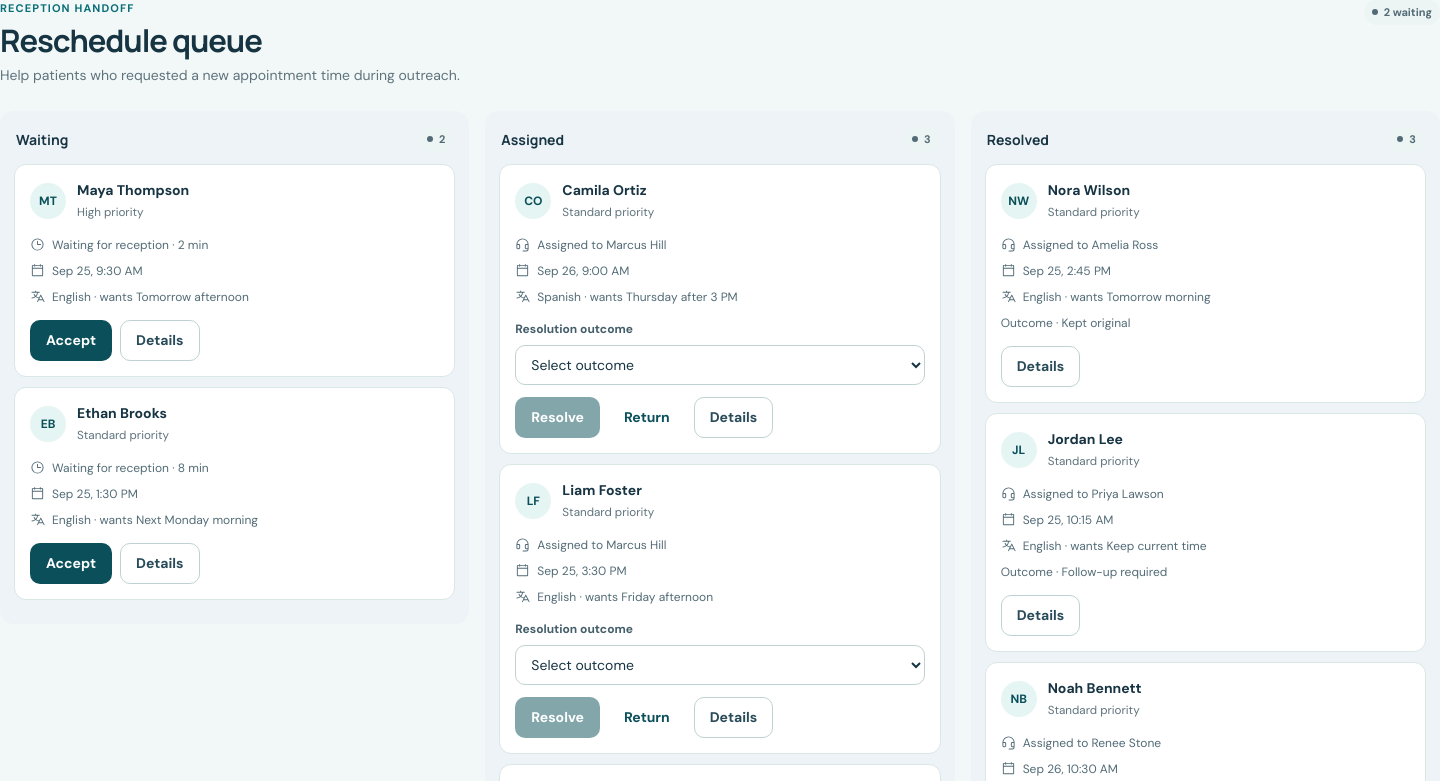
ReschedulePage › returns an assigned request to the waiting queue
Click the button with aria-label "Accept Ethan Brooks" at (71, 563), box [30,543,112,584]
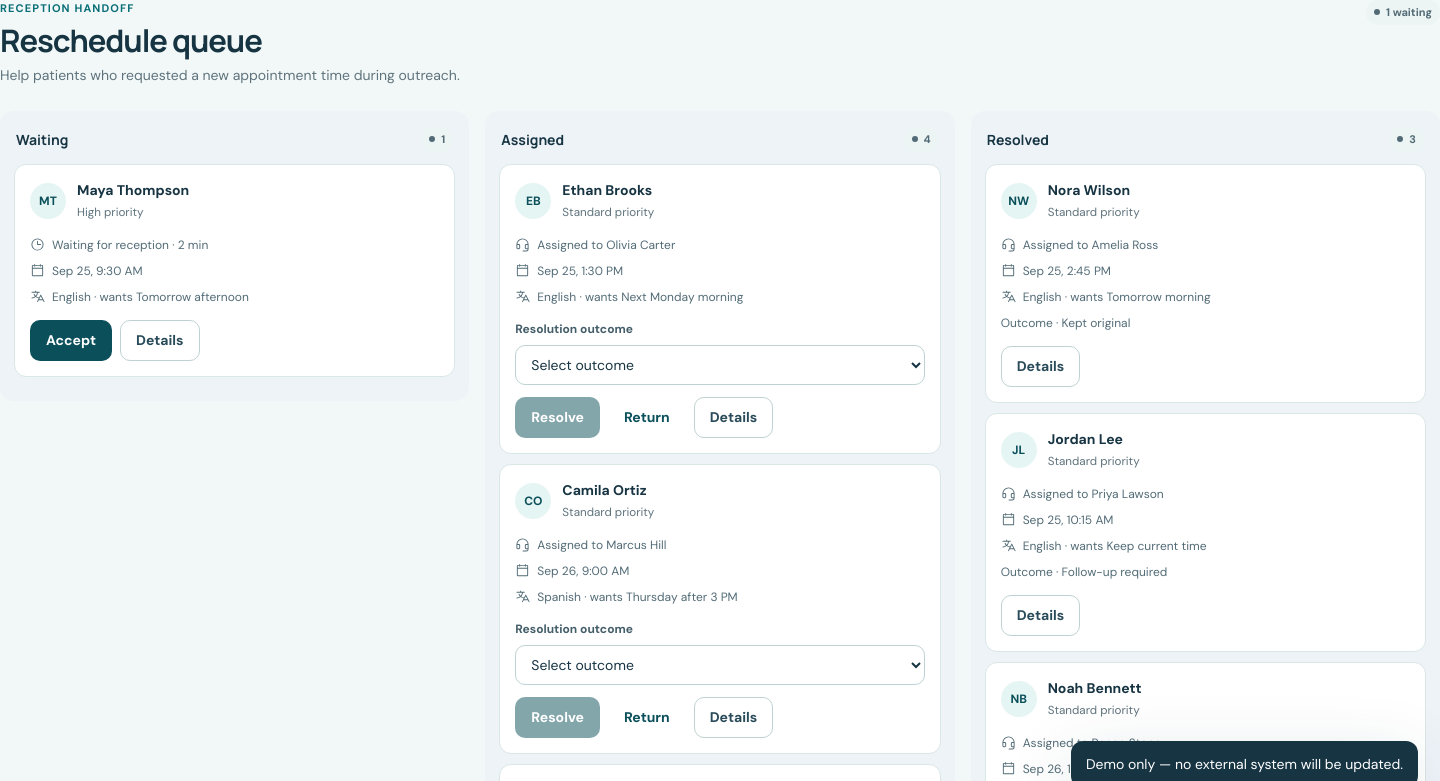
Click the button with aria-label "Return Ethan Brooks to waiting" at (647, 417), box [608,397,686,438]
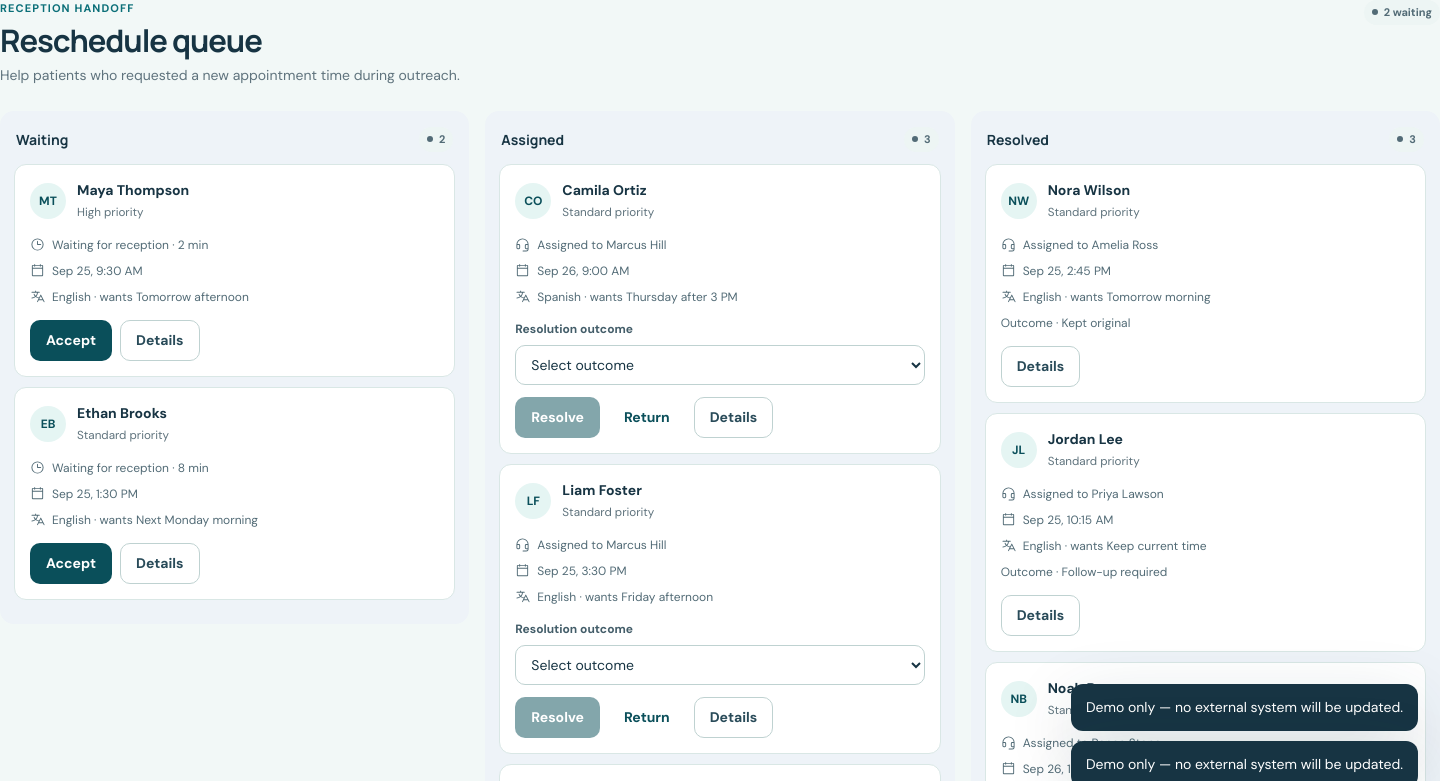
Expected: the button with aria-label "Accept Ethan Brooks" is shown, [30,543,112,584]
Expected: the text "Assigned to Olivia Carter" is gone
